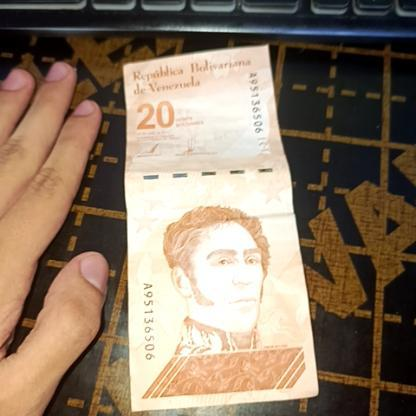twenty-front-vef: (126, 41, 319, 412)
